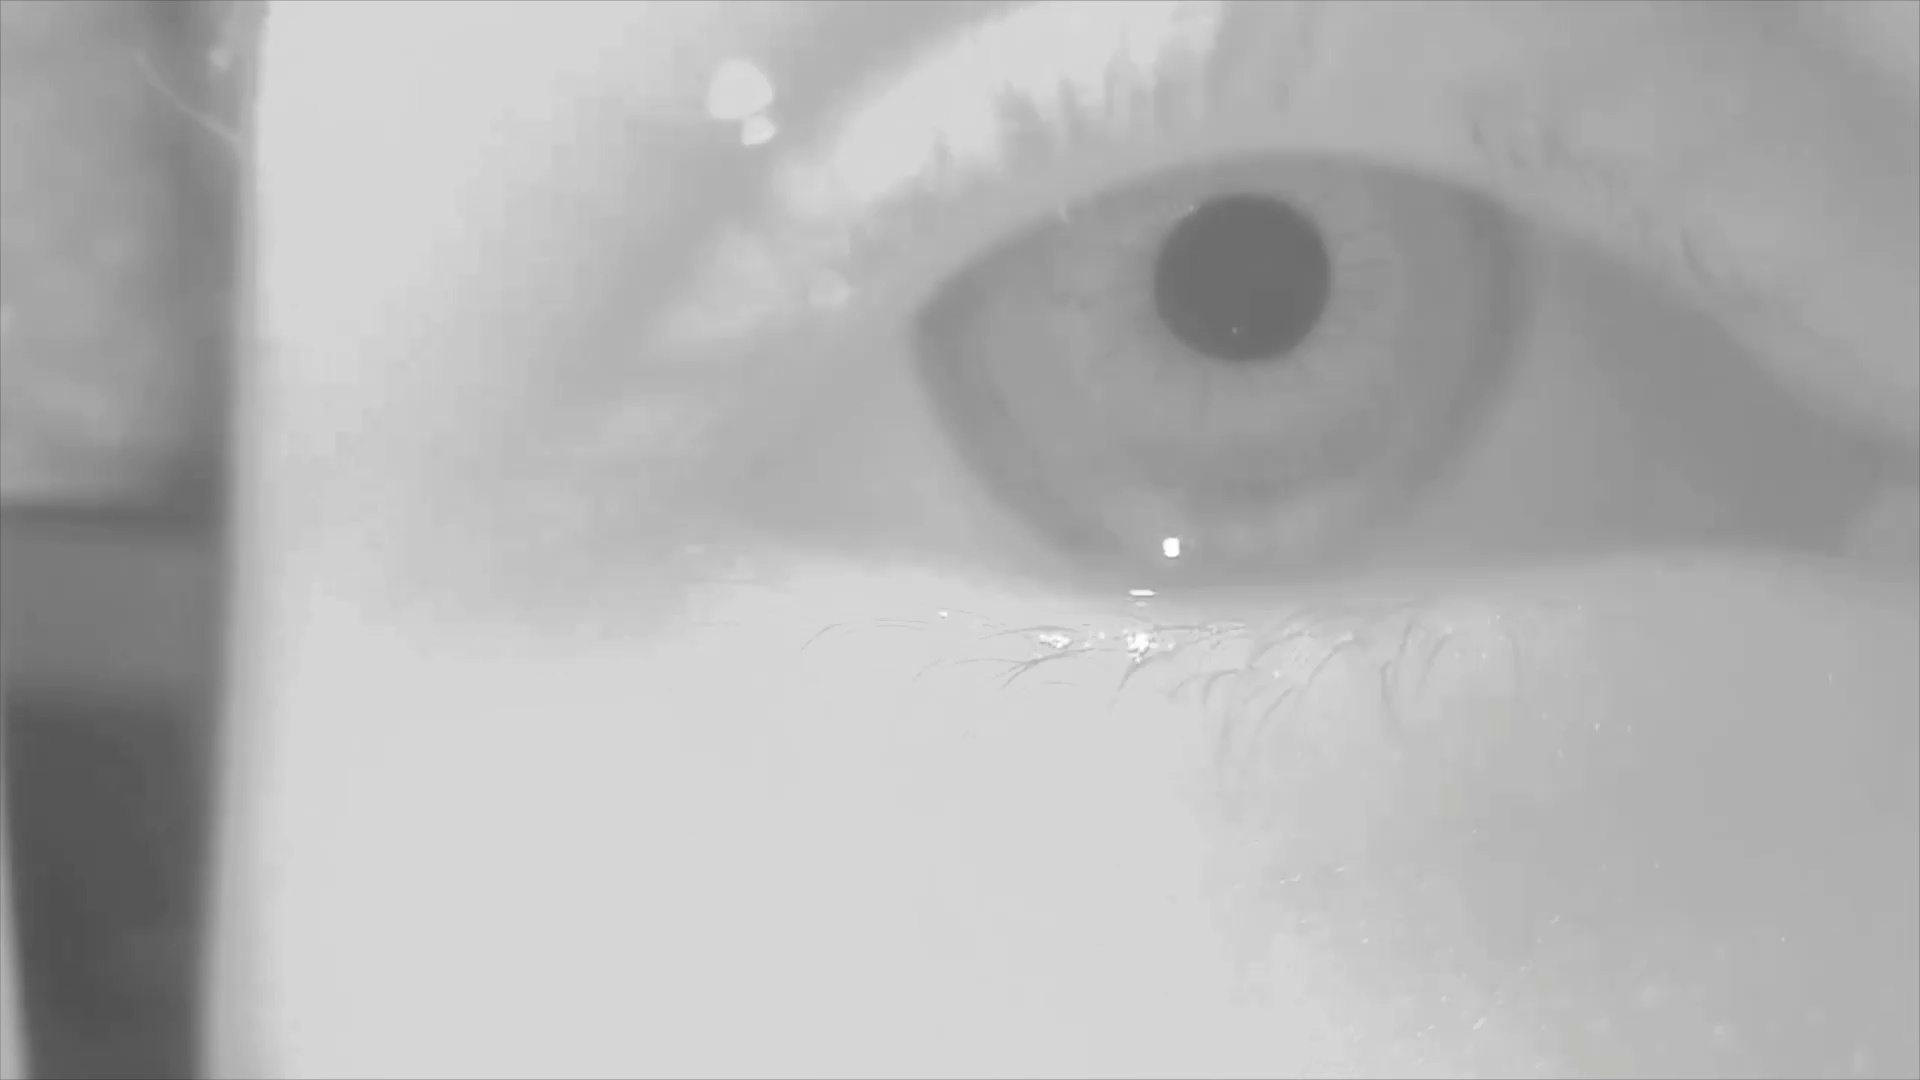pupil: (1154, 196, 1326, 361)
